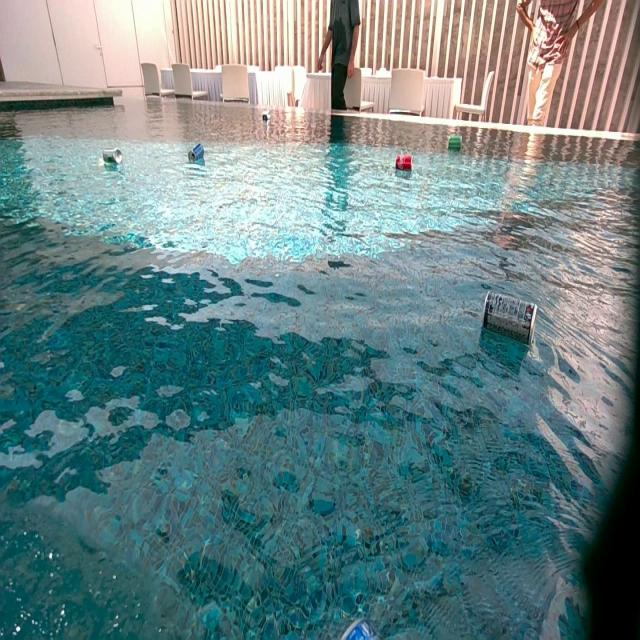Cans: (480, 289, 537, 346), (321, 623, 373, 640), (102, 147, 122, 166), (446, 135, 463, 152), (189, 143, 204, 160), (395, 157, 411, 172), (262, 110, 270, 122)
